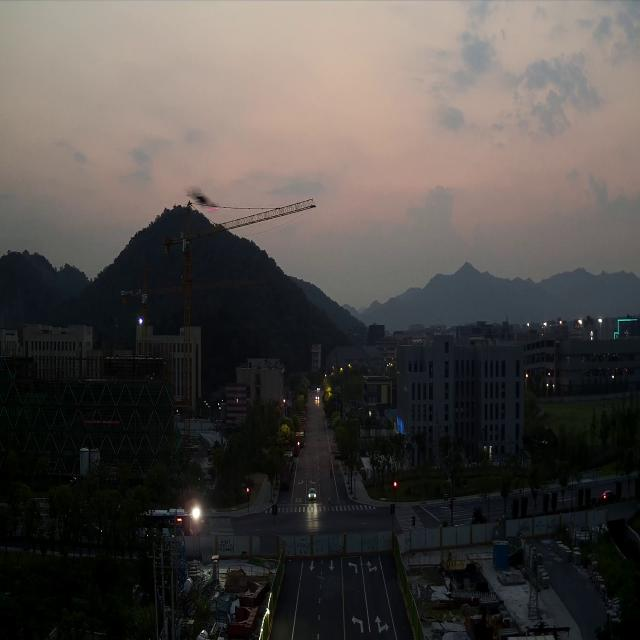UAV: (186, 188, 219, 210)
